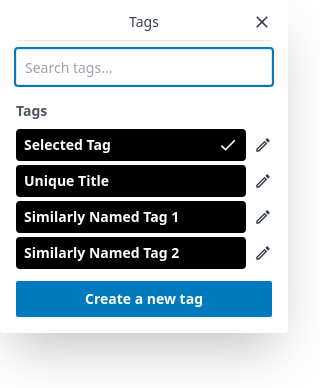
TagsMenu › should update search results with all tags that match the search query
Check: the number of elements with test id "tag-option-inner-container" is 4, box [16,129,246,161]; [16,165,246,197]; [16,201,246,233]; [16,237,246,269]
Type "Similar" into the field with test id "tag-search".
click(144, 67); type("Similar")  # box [16,49,272,85]
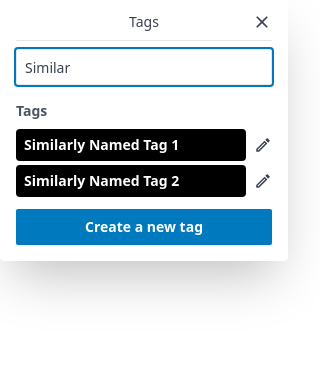
Check: the text with test id "tag-option-name" reads "Similarly Named Tag 1", box [24,135,179,154]
Check: the number of elements with test id "tag-option-inner-container" is 2, box [16,129,246,161]; [16,165,246,197]
